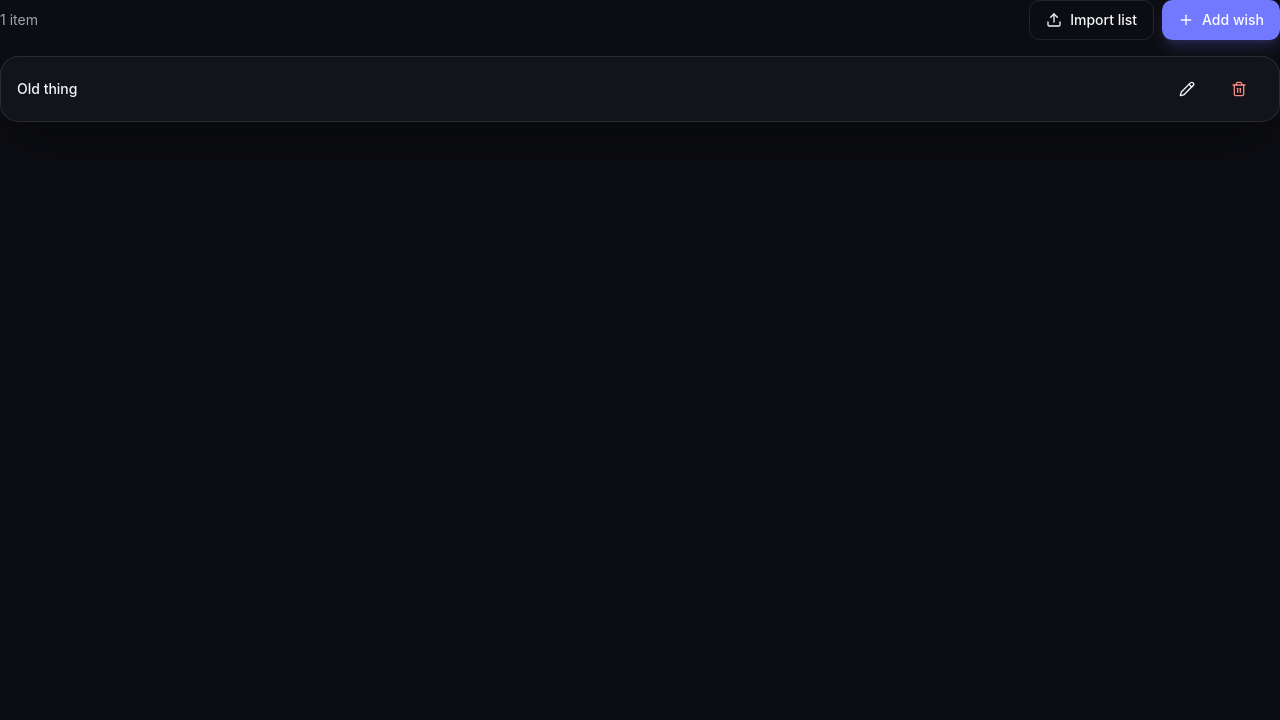
Test: WishlistTab (feature-gap G8) › leaves the entry alone when the confirmation is dismissed
The width and height of the screenshot is (1280, 720).
Click the button with test id "wishlist-delete" at (1239, 89), box [1215, 69, 1263, 109]
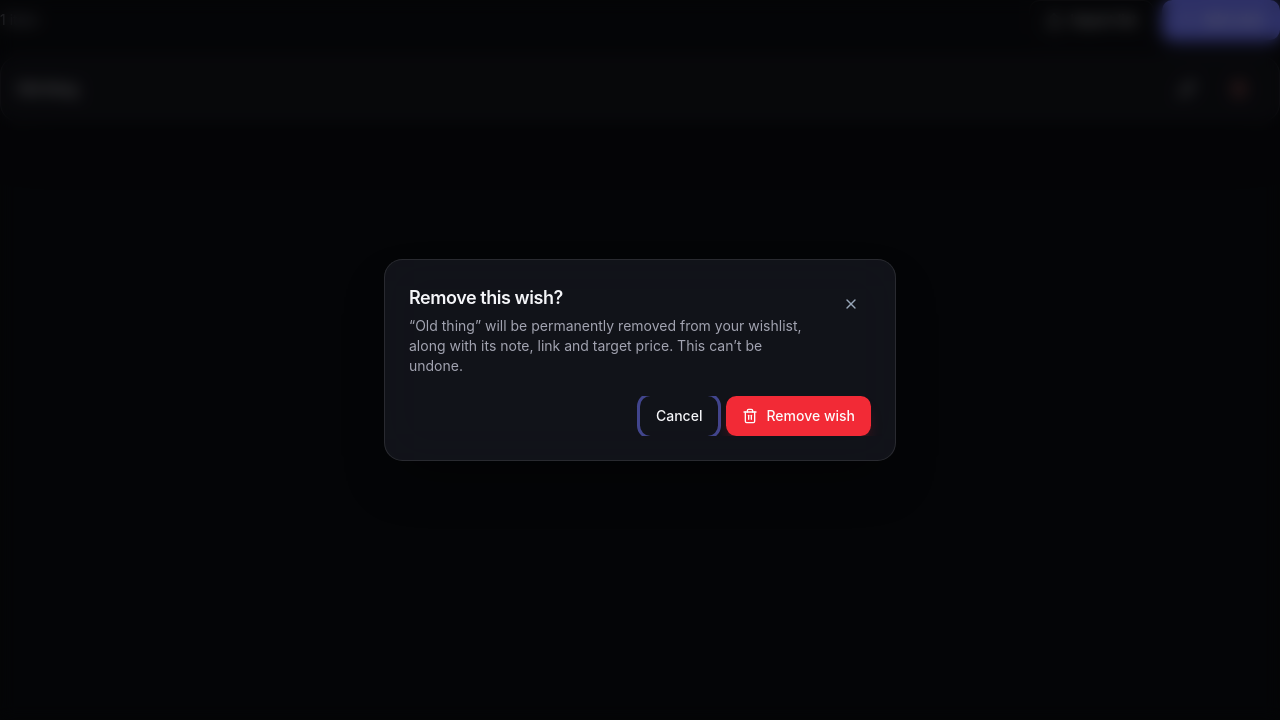
Click the button "Cancel" at (679, 416), box [640, 396, 718, 436]
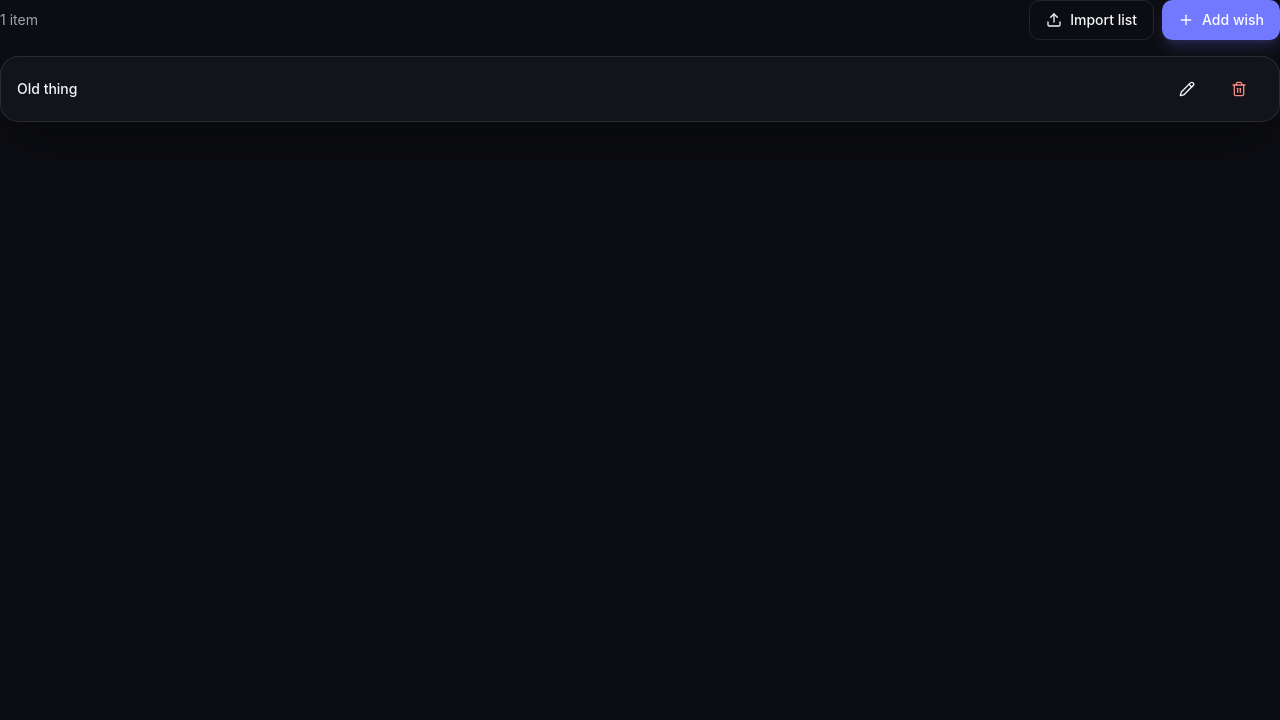
Now the dialog is gone
